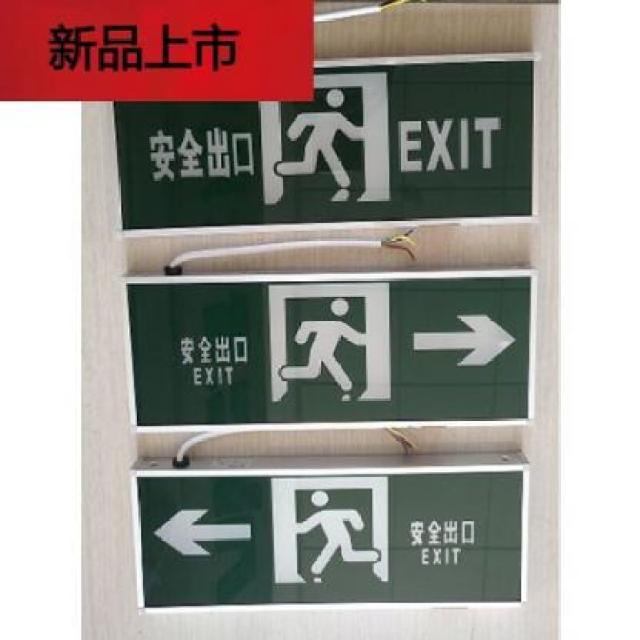exit_sign: (103, 57, 521, 229), (126, 282, 540, 428), (126, 457, 523, 604)
